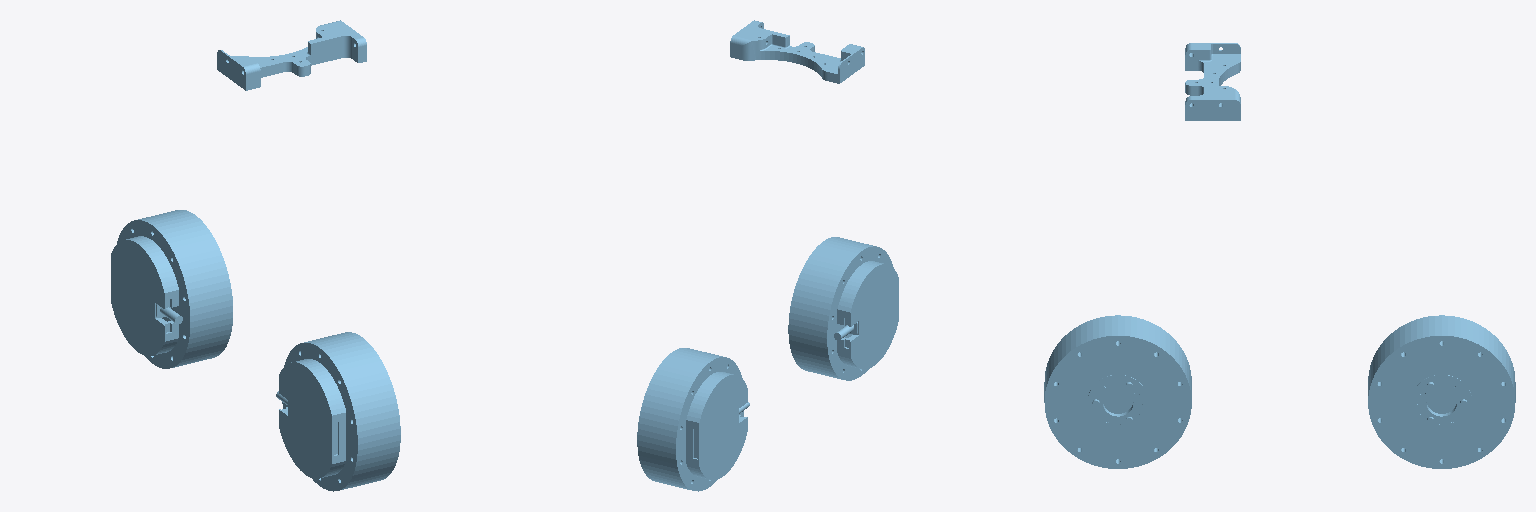
URDF robot description ([local-path]\Louis_Onshapetorobot\onshape-to-robot\my-robot):
<?xml version="1.0" ?>
<!-- Generated using onshape-to-robot -->
<!-- Onshape https://cad.onshape.com/documents/1d3327d1f480f211736a4e8a/w/588419a6855874768af7063c/e/7fc0a9d1f419e0baad283b66 -->
<robot name="C:\Users\wwwgu\Louis_Onshapetorobot\onshape-to-robot\my-robot">
  <!-- Link astro_02g_urdf_r0_v2 -->
  <link name="astro_02g_urdf_r0_v2">
    <inertial>
      <origin xyz="0 0 0" rpy="0 0 0"/>
      <mass value="1e-09"/>
      <inertia ixx="1e-09" ixy="0" ixz="0" iyy="1e-09" iyz="0" izz="1e-09"/>
    </inertial>
  </link>
  <!-- Link astro_02g_urdf_r1_v2_1 -->
  <link name="astro_02g_urdf_r1_v2_1">
    <inertial>
      <origin xyz="0 0 0" rpy="0 0 0"/>
      <mass value="1e-09"/>
      <inertia ixx="1e-09" ixy="0" ixz="0" iyy="1e-09" iyz="0" izz="1e-09"/>
    </inertial>
  </link>
  <!-- Link astro_02g_urdf_r3_v3_4 -->
  <link name="astro_02g_urdf_r3_v3_4">
    <inertial>
      <origin xyz="0.0538697 -0.00555042 -0.141841" rpy="0 0 0"/>
      <mass value="3.71691e-05"/>
      <inertia ixx="5.7521e-08" ixy="-2.74e-09" ixz="7.3e-11" iyy="5.259e-09" iyz="-1.605e-09" izz="6.0774e-08"/>
    </inertial>
    <!-- Part part_1 -->
    <visual>
      <origin xyz="0.072 0.0535 -0.14835" rpy="0 -0 -3.14159"/>
      <geometry>
        <mesh filename="assets/part_1.stl"/>
      </geometry>
      <material name="part_1_material">
        <color rgba="0.615686 0.811765 0.929412 1"/>
      </material>
    </visual>
    <collision>
      <origin xyz="0.072 0.0535 -0.14835" rpy="0 -0 -3.14159"/>
      <geometry>
        <mesh filename="assets/part_1.stl"/>
      </geometry>
    </collision>
  </link>
  <!-- Joint from astro_02g_urdf_r1_v2_1 to astro_02g_urdf_r3_v3_4 -->
  <joint name="Waist_Yaw" type="revolute">
    <origin xyz="-0.02 -0 -0.07575" rpy="1.5708 0 1.5708"/>
    <parent link="astro_02g_urdf_r1_v2_1"/>
    <child link="astro_02g_urdf_r3_v3_4"/>
    <axis xyz="0 0 1"/>
    <limit effort="10" velocity="10" lower="-1.5708" upper="1.5708"/>
  </joint>
  <!-- Joint from astro_02g_urdf_r0_v2 to astro_02g_urdf_r1_v2_1 -->
  <joint name="Waist_Roll" type="revolute">
    <origin xyz="0 -0 -0" rpy="3.14159 1.5708 0"/>
    <parent link="astro_02g_urdf_r0_v2"/>
    <child link="astro_02g_urdf_r1_v2_1"/>
    <axis xyz="0 0 1"/>
    <limit effort="10" velocity="10" lower="-0.523599" upper="0.523599"/>
  </joint>
  <!-- Link astro_02g_urdf_r10_v1 -->
  <link name="astro_02g_urdf_r10_v1">
    <inertial>
      <origin xyz="0.00299429 0 -0.0757597" rpy="0 0 0"/>
      <mass value="1.49972"/>
      <inertia ixx="0.00261348" ixy="0" ixz="6.8083e-07" iyy="0.00157578" iyz="0" izz="0.00160009"/>
    </inertial>
    <!-- Part rs04__motor_type_rs04 -->
    <visual>
      <origin xyz="0.0195 0 -0.07575" rpy="1.5708 0 -1.5708"/>
      <geometry>
        <mesh filename="assets/rs04__motor_type_rs04.stl"/>
      </geometry>
      <material name="rs04__motor_type_rs04_material">
        <color rgba="0.615686 0.811765 0.929412 1"/>
      </material>
    </visual>
    <collision>
      <origin xyz="0.0195 0 -0.07575" rpy="1.5708 0 -1.5708"/>
      <geometry>
        <mesh filename="assets/rs04__motor_type_rs04.stl"/>
      </geometry>
    </collision>
  </link>
  <!-- Link astro_02g_urdf_r11_v1 -->
  <link name="astro_02g_urdf_r11_v1">
    <inertial>
      <origin xyz="0 0 0" rpy="0 0 0"/>
      <mass value="1e-09"/>
      <inertia ixx="1e-09" ixy="0" ixz="0" iyy="1e-09" iyz="0" izz="1e-09"/>
    </inertial>
  </link>
  <!-- Link astro_02g_urdf_r12_v1 -->
  <link name="astro_02g_urdf_r12_v1">
    <inertial>
      <origin xyz="0 0 0" rpy="0 0 0"/>
      <mass value="1e-09"/>
      <inertia ixx="1e-09" ixy="0" ixz="0" iyy="1e-09" iyz="0" izz="1e-09"/>
    </inertial>
  </link>
  <!-- Link astro_02g_urdf_r13_v2_1 -->
  <link name="astro_02g_urdf_r13_v2_1">
    <inertial>
      <origin xyz="0 0 0" rpy="0 0 0"/>
      <mass value="1e-09"/>
      <inertia ixx="1e-09" ixy="0" ixz="0" iyy="1e-09" iyz="0" izz="1e-09"/>
    </inertial>
  </link>
  <!-- Link astro_02g_urdf_r14_v2 -->
  <link name="astro_02g_urdf_r14_v2">
    <inertial>
      <origin xyz="0 0 0" rpy="0 0 0"/>
      <mass value="1e-09"/>
      <inertia ixx="1e-09" ixy="0" ixz="0" iyy="1e-09" iyz="0" izz="1e-09"/>
    </inertial>
  </link>
  <!-- Link astro_02g_urdf_r15_v3 -->
  <link name="astro_02g_urdf_r15_v3">
    <inertial>
      <origin xyz="0 0 0" rpy="0 0 0"/>
      <mass value="1e-09"/>
      <inertia ixx="1e-09" ixy="0" ixz="0" iyy="1e-09" iyz="0" izz="1e-09"/>
    </inertial>
  </link>
  <!-- Joint from astro_02g_urdf_r14_v2 to astro_02g_urdf_r15_v3 -->
  <joint name="Right_Ankle_Pitch" type="revolute">
    <origin xyz="0.021 0.03 0.0261" rpy="3.14159 1.5708 0"/>
    <parent link="astro_02g_urdf_r14_v2"/>
    <child link="astro_02g_urdf_r15_v3"/>
    <axis xyz="0 0 1"/>
    <limit effort="10" velocity="10" lower="-0.523599" upper="0.523599"/>
  </joint>
  <!-- Joint from astro_02g_urdf_r13_v2_1 to astro_02g_urdf_r14_v2 -->
  <joint name="Right_Ankle_Roll" type="revolute">
    <origin xyz="0.0261 0.349 0.02025" rpy="0 -1.5708 0"/>
    <parent link="astro_02g_urdf_r13_v2_1"/>
    <child link="astro_02g_urdf_r14_v2"/>
    <axis xyz="0 0 1"/>
    <limit effort="10" velocity="10" lower="-0.349066" upper="0.349066"/>
  </joint>
  <!-- Link astro_02g_urdf_lever_motor_v3 -->
  <link name="astro_02g_urdf_lever_motor_v3">
    <inertial>
      <origin xyz="0 0 0" rpy="0 0 0"/>
      <mass value="1e-09"/>
      <inertia ixx="1e-09" ixy="0" ixz="0" iyy="1e-09" iyz="0" izz="1e-09"/>
    </inertial>
  </link>
  <!-- Joint from astro_02g_urdf_r13_v2_1 to astro_02g_urdf_lever_motor_v3 -->
  <joint name="Right_R15_MOTOR" type="revolute">
    <origin xyz="-0.0223 0.237 0.02025" rpy="-1.5708 1.38027 -1.5708"/>
    <parent link="astro_02g_urdf_r13_v2_1"/>
    <child link="astro_02g_urdf_lever_motor_v3"/>
    <axis xyz="0 0 1"/>
    <limit effort="10" velocity="10" lower="-3.141592653589793" upper="3.141592653589793"/>
  </joint>
  <!-- Link astro_02g_urdf_lever_motor_v3_2 -->
  <link name="astro_02g_urdf_lever_motor_v3_2">
    <inertial>
      <origin xyz="0 0 0" rpy="0 0 0"/>
      <mass value="1e-09"/>
      <inertia ixx="1e-09" ixy="0" ixz="0" iyy="1e-09" iyz="0" izz="1e-09"/>
    </inertial>
  </link>
  <!-- Joint from astro_02g_urdf_r13_v2_1 to astro_02g_urdf_lever_motor_v3_2 -->
  <joint name="Right_R14_MOTOR" type="revolute">
    <origin xyz="-0.0223 0.137 0.02025" rpy="1.5708 -1.45057 1.5708"/>
    <parent link="astro_02g_urdf_r13_v2_1"/>
    <child link="astro_02g_urdf_lever_motor_v3_2"/>
    <axis xyz="0 0 1"/>
    <limit effort="10" velocity="10" lower="-3.141592653589793" upper="3.141592653589793"/>
  </joint>
  <!-- Joint from astro_02g_urdf_r12_v1 to astro_02g_urdf_r13_v2_1 -->
  <joint name="Right_Knee_Pitch" type="revolute">
    <origin xyz="-0.02 0 -0.16825" rpy="-1.5708 -0 -1.5708"/>
    <parent link="astro_02g_urdf_r12_v1"/>
    <child link="astro_02g_urdf_r13_v2_1"/>
    <axis xyz="0 0 1"/>
    <limit effort="10" velocity="10" lower="0" upper="2.0944"/>
  </joint>
  <!-- Joint from astro_02g_urdf_r11_v1 to astro_02g_urdf_r12_v1 -->
  <joint name="Right_Hips_Yaw" type="revolute">
    <origin xyz="3.16418e-06 -0.1522 0.0252076" rpy="1.5708 0.000168777 -3.14159"/>
    <parent link="astro_02g_urdf_r11_v1"/>
    <child link="astro_02g_urdf_r12_v1"/>
    <axis xyz="0 0 1"/>
    <limit effort="10" velocity="10" lower="-1.5708" upper="1.5708"/>
  </joint>
  <!-- Joint from astro_02g_urdf_r10_v1 to astro_02g_urdf_r11_v1 -->
  <joint name="Right_Hips_Roll" type="revolute">
    <origin xyz="-0.02 0 -0.07575" rpy="-0 1.5708 0"/>
    <parent link="astro_02g_urdf_r10_v1"/>
    <child link="astro_02g_urdf_r11_v1"/>
    <axis xyz="0 0 1"/>
    <limit effort="10" velocity="10" lower="-0.523599" upper="1.5708"/>
  </joint>
  <!-- Joint from astro_02g_urdf_r0_v2 to astro_02g_urdf_r10_v1 -->
  <joint name="Right_Hips_Pitch" type="revolute">
    <origin xyz="0.07575 -0.056 -0.115" rpy="1.5708 -0 -3.14159"/>
    <parent link="astro_02g_urdf_r0_v2"/>
    <child link="astro_02g_urdf_r10_v1"/>
    <axis xyz="0 0 1"/>
    <limit effort="10" velocity="10" lower="-1.5708" upper="1.5708"/>
  </joint>
  <!-- Link astro_02g_urdf_r10_v1_2 -->
  <link name="astro_02g_urdf_r10_v1_2">
    <inertial>
      <origin xyz="0.00299429 0 -0.0757597" rpy="0 0 0"/>
      <mass value="1.49972"/>
      <inertia ixx="0.00261348" ixy="0" ixz="6.8083e-07" iyy="0.00157578" iyz="-0" izz="0.00160009"/>
    </inertial>
    <!-- Part rs04__motor_type_rs04_2 -->
    <visual>
      <origin xyz="0.0195 0 -0.07575" rpy="1.5708 0 -1.5708"/>
      <geometry>
        <mesh filename="assets/rs04__motor_type_rs04.stl"/>
      </geometry>
      <material name="rs04__motor_type_rs04_2_material">
        <color rgba="0.615686 0.811765 0.929412 1"/>
      </material>
    </visual>
    <collision>
      <origin xyz="0.0195 0 -0.07575" rpy="1.5708 0 -1.5708"/>
      <geometry>
        <mesh filename="assets/rs04__motor_type_rs04.stl"/>
      </geometry>
    </collision>
  </link>
  <!-- Link astro_02g_urdf_r21_v1 -->
  <link name="astro_02g_urdf_r21_v1">
    <inertial>
      <origin xyz="0 0 0" rpy="0 0 0"/>
      <mass value="1e-09"/>
      <inertia ixx="1e-09" ixy="0" ixz="0" iyy="1e-09" iyz="0" izz="1e-09"/>
    </inertial>
  </link>
  <!-- Link astro_02g_urdf_r22_v1 -->
  <link name="astro_02g_urdf_r22_v1">
    <inertial>
      <origin xyz="0 0 0" rpy="0 0 0"/>
      <mass value="1e-09"/>
      <inertia ixx="1e-09" ixy="0" ixz="0" iyy="1e-09" iyz="0" izz="1e-09"/>
    </inertial>
  </link>
  <!-- Link astro_02g_urdf_r23_v2_1 -->
  <link name="astro_02g_urdf_r23_v2_1">
    <inertial>
      <origin xyz="0 0 0" rpy="0 0 0"/>
      <mass value="1e-09"/>
      <inertia ixx="1e-09" ixy="0" ixz="0" iyy="1e-09" iyz="0" izz="1e-09"/>
    </inertial>
  </link>
  <!-- Link astro_02g_urdf_r14_v2_2 -->
  <link name="astro_02g_urdf_r14_v2_2">
    <inertial>
      <origin xyz="0 0 0" rpy="0 0 0"/>
      <mass value="1e-09"/>
      <inertia ixx="1e-09" ixy="0" ixz="0" iyy="1e-09" iyz="0" izz="1e-09"/>
    </inertial>
  </link>
  <!-- Link astro_02g_urdf_r15_v3_2 -->
  <link name="astro_02g_urdf_r15_v3_2">
    <inertial>
      <origin xyz="0 0 0" rpy="0 0 0"/>
      <mass value="1e-09"/>
      <inertia ixx="1e-09" ixy="0" ixz="0" iyy="1e-09" iyz="0" izz="1e-09"/>
    </inertial>
  </link>
  <!-- Joint from astro_02g_urdf_r14_v2_2 to astro_02g_urdf_r15_v3_2 -->
  <joint name="Left_Ankle_Pitch" type="revolute">
    <origin xyz="0.021 0.03 0.0261" rpy="-3.14159 1.5708 0"/>
    <parent link="astro_02g_urdf_r14_v2_2"/>
    <child link="astro_02g_urdf_r15_v3_2"/>
    <axis xyz="0 0 1"/>
    <limit effort="10" velocity="10" lower="-0.523599" upper="0.523599"/>
  </joint>
  <!-- Joint from astro_02g_urdf_r23_v2_1 to astro_02g_urdf_r14_v2_2 -->
  <joint name="Left_Ankle_Roll" type="revolute">
    <origin xyz="0.0261 -0.349 0.02025" rpy="3.14159 1.5708 0"/>
    <parent link="astro_02g_urdf_r23_v2_1"/>
    <child link="astro_02g_urdf_r14_v2_2"/>
    <axis xyz="0 0 1"/>
    <limit effort="10" velocity="10" lower="-0.349066" upper="0.349066"/>
  </joint>
  <!-- Link astro_02g_urdf_lever_motor_v3_3 -->
  <link name="astro_02g_urdf_lever_motor_v3_3">
    <inertial>
      <origin xyz="0 0 0" rpy="0 0 0"/>
      <mass value="1e-09"/>
      <inertia ixx="1e-09" ixy="0" ixz="0" iyy="1e-09" iyz="0" izz="1e-09"/>
    </inertial>
  </link>
  <!-- Joint from astro_02g_urdf_r23_v2_1 to astro_02g_urdf_lever_motor_v3_3 -->
  <joint name="Left_R15_MOTOR" type="revolute">
    <origin xyz="-0.0223 -0.137 0.02025" rpy="-1.5708 -1.44994 -1.5708"/>
    <parent link="astro_02g_urdf_r23_v2_1"/>
    <child link="astro_02g_urdf_lever_motor_v3_3"/>
    <axis xyz="0 0 1"/>
    <limit effort="10" velocity="10" lower="-3.141592653589793" upper="3.141592653589793"/>
  </joint>
  <!-- Link astro_02g_urdf_lever_motor_v3_4 -->
  <link name="astro_02g_urdf_lever_motor_v3_4">
    <inertial>
      <origin xyz="0 0 0" rpy="0 0 0"/>
      <mass value="1e-09"/>
      <inertia ixx="1e-09" ixy="0" ixz="0" iyy="1e-09" iyz="0" izz="1e-09"/>
    </inertial>
  </link>
  <!-- Joint from astro_02g_urdf_r23_v2_1 to astro_02g_urdf_lever_motor_v3_4 -->
  <joint name="Left_R14_MOTOR" type="revolute">
    <origin xyz="-0.0223 -0.237 0.02025" rpy="1.5708 1.38027 1.5708"/>
    <parent link="astro_02g_urdf_r23_v2_1"/>
    <child link="astro_02g_urdf_lever_motor_v3_4"/>
    <axis xyz="0 0 1"/>
    <limit effort="10" velocity="10" lower="-3.141592653589793" upper="3.141592653589793"/>
  </joint>
  <!-- Joint from astro_02g_urdf_r22_v1 to astro_02g_urdf_r23_v2_1 -->
  <joint name="Left_Knee_Pitch" type="revolute">
    <origin xyz="0.02 -0 -0.16825" rpy="1.5708 0 -1.5708"/>
    <parent link="astro_02g_urdf_r22_v1"/>
    <child link="astro_02g_urdf_r23_v2_1"/>
    <axis xyz="0 0 1"/>
    <limit effort="10" velocity="10" lower="-2.0944" upper="0"/>
  </joint>
  <!-- Joint from astro_02g_urdf_r21_v1 to astro_02g_urdf_r22_v1 -->
  <joint name="Left_Hips_Yaw" type="revolute">
    <origin xyz="-3.16547e-06 0.1522 0.0251924" rpy="1.5708 0.000168777 -0"/>
    <parent link="astro_02g_urdf_r21_v1"/>
    <child link="astro_02g_urdf_r22_v1"/>
    <axis xyz="0 0 1"/>
    <limit effort="10" velocity="10" lower="-1.5708" upper="1.5708"/>
  </joint>
  <!-- Joint from astro_02g_urdf_r10_v1_2 to astro_02g_urdf_r21_v1 -->
  <joint name="Left_Hips_Roll" type="revolute">
    <origin xyz="-0.02 -0 -0.07575" rpy="-0 1.5708 0"/>
    <parent link="astro_02g_urdf_r10_v1_2"/>
    <child link="astro_02g_urdf_r21_v1"/>
    <axis xyz="0 0 1"/>
    <limit effort="10" velocity="10" lower="-1.5708" upper="0.523599"/>
  </joint>
  <!-- Joint from astro_02g_urdf_r0_v2 to astro_02g_urdf_r10_v1_2 -->
  <joint name="Left_Hips_Pitch" type="revolute">
    <origin xyz="0.07575 0.056 -0.115" rpy="-1.5708 0 3.14159"/>
    <parent link="astro_02g_urdf_r0_v2"/>
    <child link="astro_02g_urdf_r10_v1_2"/>
    <axis xyz="0 0 1"/>
    <limit effort="10" velocity="10" lower="-1.5708" upper="1.5708"/>
  </joint>
</robot>

--- Render facts (derived) ---
Views: 3 orthographic renders of the robot side by side, from view 1: azimuth 30°, elevation 25°; view 2: azimuth 150°, elevation 25°; view 3: azimuth 270°, elevation 25°.
Model [local-path]\Louis_Onshapetorobot\onshape-to-robot\my-robot with 19 links and 18 joints (18 revolute), rooted at astro_02g_urdf_r0_v2, posed every joint at zero.
Visible links, largest first — view 1: astro_02g_urdf_r10_v1_2, astro_02g_urdf_r10_v1, astro_02g_urdf_r3_v3_4; view 2: astro_02g_urdf_r10_v1, astro_02g_urdf_r10_v1_2, astro_02g_urdf_r3_v3_4; view 3: astro_02g_urdf_r10_v1, astro_02g_urdf_r10_v1_2, astro_02g_urdf_r3_v3_4.
Boxes of the visible links, left/top/right/bottom form: astro_02g_urdf_r10_v1_2: left=111, top=210, right=232, bottom=368; astro_02g_urdf_r10_v1: left=276, top=332, right=400, bottom=491; astro_02g_urdf_r3_v3_4: left=217, top=20, right=366, bottom=90; astro_02g_urdf_r10_v1: left=788, top=237, right=898, bottom=380; astro_02g_urdf_r10_v1_2: left=637, top=348, right=749, bottom=491; astro_02g_urdf_r3_v3_4: left=730, top=20, right=864, bottom=83; astro_02g_urdf_r10_v1: left=1044, top=315, right=1191, bottom=468; astro_02g_urdf_r10_v1_2: left=1368, top=315, right=1515, bottom=468; astro_02g_urdf_r3_v3_4: left=1185, top=43, right=1240, bottom=120.
Size in the robot's own frame: 0.11 by 0.3835 by 0.3483 metres.
3 mesh visuals loaded from 2 distinct referenced files (2 binary STL).
